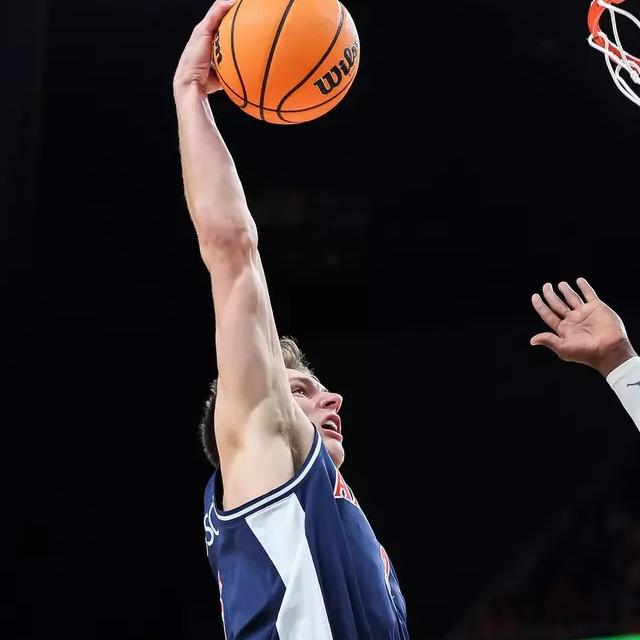basketball: (209, 0, 359, 124)
hoop: (564, 0, 640, 272)
